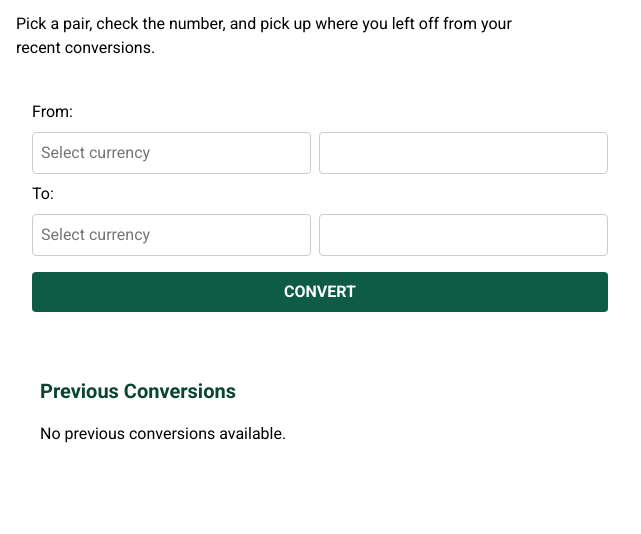
Test: CurrencyConverter › shows the error returned by the conversion
Click the button "Convert". click: (320, 292)
box: [32,272,608,312]
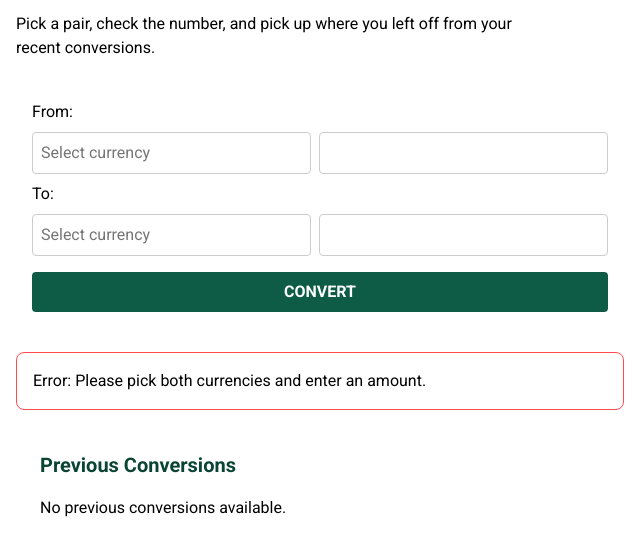
Expected: the text "No previous conversions available." is shown, [40,498,286,517]
Now the text "Error: Please pick both currencies and enter an amount." is shown, box [33,371,426,390]
